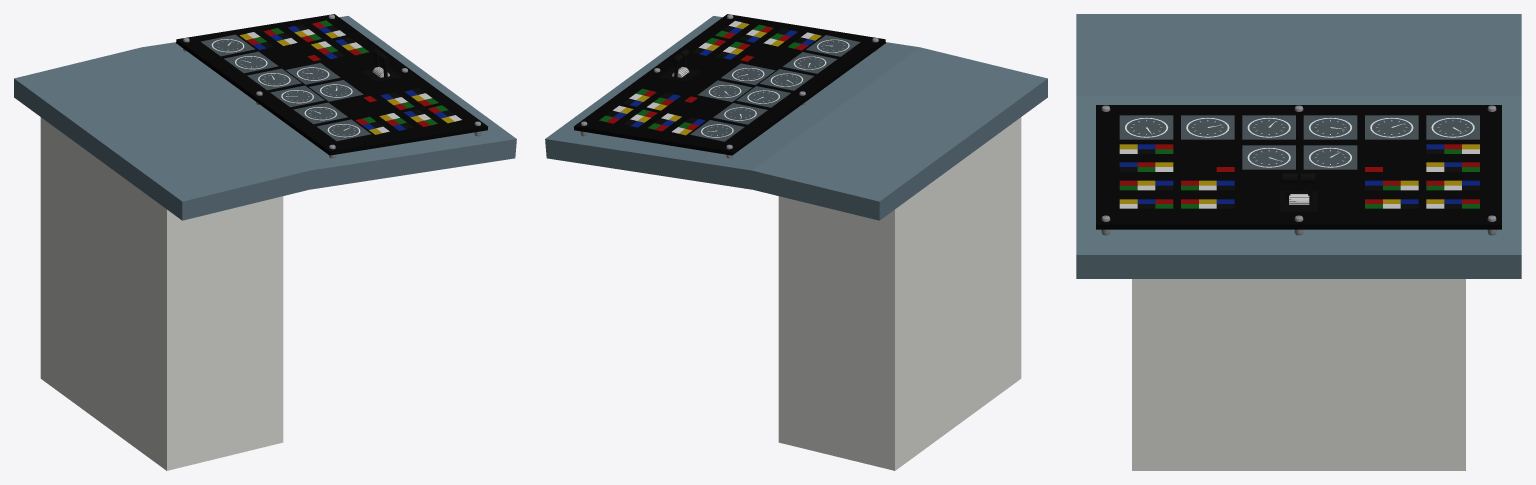
File: consola_control.obj
3 renders of one model, left to right at view 1: azimuth 30°, elevation 25°; view 2: azimuth 150°, elevation 25°; view 3: azimuth 270°, elevation 25°, orthographic. The views are drawn at different scales.
Parts seen in each view (by area): view 1: Pedestal_Base, Soporte_Base, Consola, Soporte_Consola, Zona_cuadrada.022, Zona_cuadrada.025, Zona_cuadrada, Zona_cuadrada.010, Zona_cuadrada.011, Zona_cuadrada.017, Zona_cuadrada.023, Zona_cuadrada.024 (+8 smaller); view 2: Pedestal_Base, Soporte_Base, Consola, Soporte_Consola, Zona_cuadrada.023, Zona_cuadrada.024, Zona_cuadrada.025, Zona_cuadrada, Zona_cuadrada.011, Zona_cuadrada.010, Zona_cuadrada.017, Zona_cuadrada.022 (+8 smaller); view 3: Pedestal_Base, Soporte_Base, Consola, Soporte_Consola, Zona_cuadrada.010, Zona_cuadrada.017, Zona_cuadrada.024, Zona_cuadrada, Zona_cuadrada.011, Zona_cuadrada.022, Zona_cuadrada.023, Zona_cuadrada.025 (+23 smaller).
Boxes of the visible parts, x1,y1,x2,y2 form: Pedestal_Base: [40, 117, 283, 470]; Soporte_Base: [14, 47, 309, 220]; Consola: [176, 14, 488, 155]; Soporte_Consola: [142, 16, 516, 189]; Zona_cuadrada.022: [224, 52, 278, 73]; Zona_cuadrada.025: [270, 86, 324, 107]; Zona_cuadrada: [309, 80, 363, 102]; Zona_cuadrada.010: [286, 63, 340, 85]; Zona_cuadrada.011: [201, 35, 255, 56]; Zona_cuadrada.017: [317, 120, 371, 141]; Zona_cuadrada.023: [293, 103, 347, 124]; Zona_cuadrada.024: [247, 69, 301, 90]; Pedestal_Base: [778, 117, 1021, 470]; Soporte_Base: [752, 47, 1047, 220]; Consola: [573, 14, 885, 155]; Soporte_Consola: [545, 16, 919, 189]; Zona_cuadrada.023: [783, 52, 836, 74]; Zona_cuadrada.024: [736, 86, 790, 108]; Zona_cuadrada.025: [760, 69, 813, 91]; Zona_cuadrada: [721, 64, 775, 85]; Zona_cuadrada.011: [690, 120, 744, 142]; Zona_cuadrada.010: [698, 81, 751, 102]; Zona_cuadrada.017: [806, 35, 860, 57]; Zona_cuadrada.022: [713, 103, 767, 125]; Pedestal_Base: [1132, 279, 1465, 470]; Soporte_Base: [1076, 14, 1521, 96]; Consola: [1096, 105, 1501, 229]; Soporte_Consola: [1076, 96, 1521, 278]; Zona_cuadrada.010: [1303, 146, 1357, 170]; Zona_cuadrada.017: [1119, 116, 1173, 140]; Zona_cuadrada.024: [1303, 116, 1357, 140]; Zona_cuadrada: [1242, 146, 1295, 170]; Zona_cuadrada.011: [1426, 116, 1479, 140]; Zona_cuadrada.022: [1365, 116, 1418, 140]; Zona_cuadrada.023: [1181, 116, 1234, 140]; Zona_cuadrada.025: [1242, 116, 1295, 140].
Size of the model in its own units: 0.9178 by 0.7957 by 0.8.
